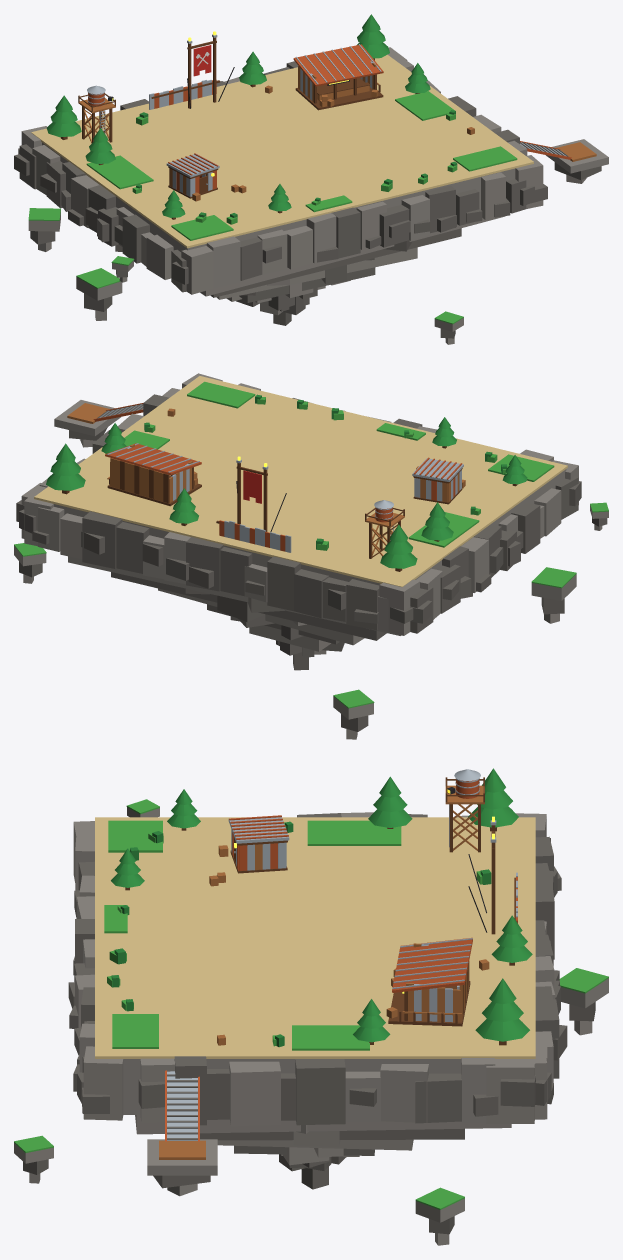
The model's file is team-island-blocky.glb.
3 renders of one model, top to bottom at view 1: azimuth 30°, elevation 25°; view 2: azimuth 150°, elevation 25°; view 3: azimuth 270°, elevation 25°, orthographic. The views are drawn at different scales.
Visible parts, largest first — view 1: plateau_sand, shop_roof, cliff_core, under_core_1, shop, cliff_rock_4, under_core_2, under_core_0, cliff_rock_1, cliff_rock_18, grass_patch_2, cliff_rock_12 (+35 smaller); view 2: plateau_sand, shop, under_core_1, cliff_core, cliff_rock_34, cliff_rock_11, shop_roof, cliff_rock_31, cliff_rock_8, cliff_rock_19, cliff_rock_2, cliff_rock_17 (+34 smaller); view 3: plateau_sand, shop, cliff_rock_70, cliff_rock_64, under_core_0, shop_roof, cliff_core, cliff_rock_57, grass_patch_2, cliff_rock_54, cliff_rock_84, under_core_1 (+35 smaller).
Part boxes in pixels (x1,y1,x2,y2): plateau_sand: (31,54,533,248); shop_roof: (293,44,383,86); cliff_core: (42,142,515,251); under_core_1: (210,228,461,297); shop: (295,44,381,107); cliff_rock_4: (206,236,240,288); under_core_2: (216,247,417,299); under_core_0: (200,216,504,296); cliff_rock_1: (181,246,213,294); cliff_rock_18: (331,207,360,258); grass_patch_2: (86,155,153,189); cliff_rock_12: (284,225,312,269); plateau_sand: (34,376,567,587); shop: (107,443,199,503); under_core_1: (111,572,386,640); cliff_core: (54,469,566,585); cliff_rock_34: (82,511,122,568); cliff_rock_11: (267,556,300,611); shop_roof: (105,443,201,475); cliff_rock_31: (116,522,149,573); cliff_rock_8: (294,569,328,618); cliff_rock_19: (186,537,223,591); cliff_rock_2: (346,579,379,630); cliff_rock_17: (220,547,252,596); plateau_sand: (95,817,535,1058); shop: (386,938,472,1023); cliff_rock_70: (229,1061,280,1126); cliff_rock_64: (295,1059,345,1125); under_core_0: (135,1115,511,1134); shop_roof: (392,937,472,992); cliff_core: (123,1059,461,1114); cliff_rock_57: (380,1064,428,1122); grass_patch_2: (307,820,401,845); cliff_rock_54: (415,1073,461,1123); cliff_rock_84: (83,1046,123,1120); under_core_1: (200,1128,464,1140).
Size of the model in its own units: 104 by 48.9 by 76.15.
